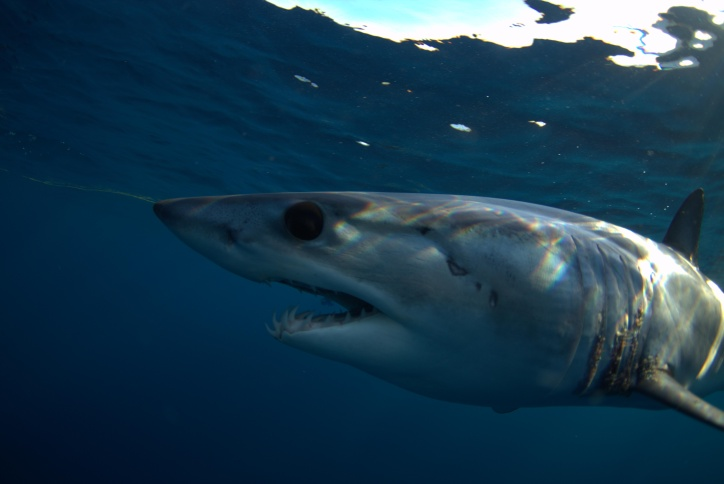Mako: (125, 176, 724, 427)
